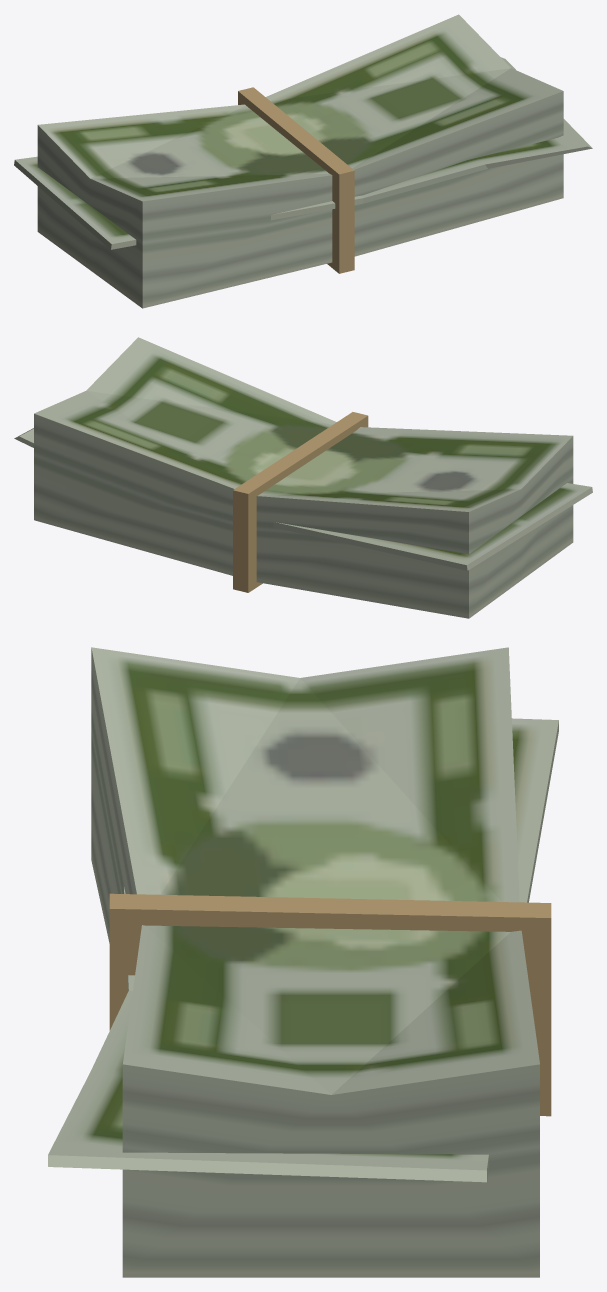
Rendered from SM_Prop_Money_Strapped_01.obj.
The picture shows the model from 3 angles, top to bottom: view 1: azimuth 30°, elevation 25°; view 2: azimuth 150°, elevation 25°; view 3: azimuth 270°, elevation 25°; orthographic projection. The views are drawn at different scales.
Parts seen in each view (by area): view 1: SM_Prop_Money_Strapped_01_0; view 2: SM_Prop_Money_Strapped_01_0; view 3: SM_Prop_Money_Strapped_01_0.
Part boxes in pixels (x1=…): SM_Prop_Money_Strapped_01_0: x1=14, y1=14, x2=592, y2=308; SM_Prop_Money_Strapped_01_0: x1=14, y1=337, x2=592, y2=618; SM_Prop_Money_Strapped_01_0: x1=48, y1=647, x2=558, y2=1277.
Size of the model in its own units: 0.3111 by 0.0761 by 0.1417.
1 material, 1 textured.
